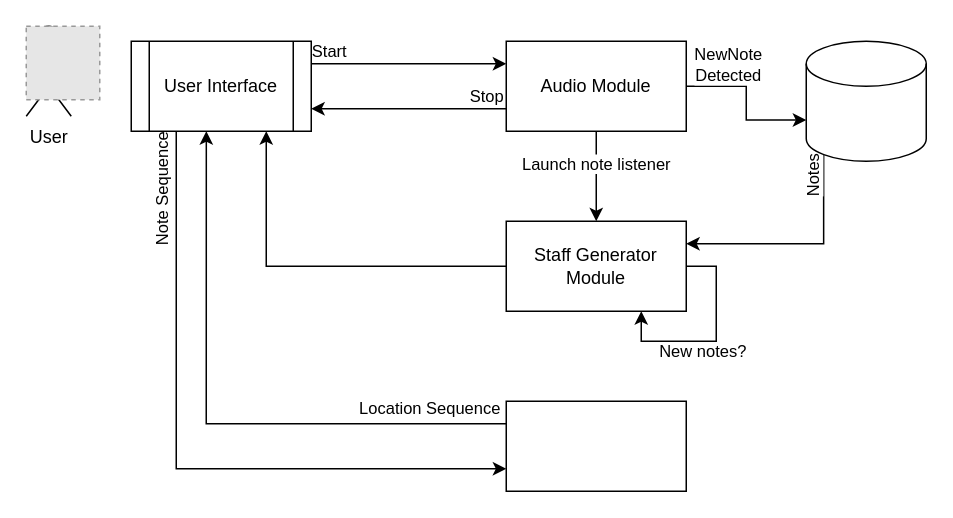
The diagram is 953 pixels wide and 518 high, and some of its shapes have lost their labels. Grey dashed boxes stand in for pictures. Each missing label, with the centre of its shape:
ML Model Module: pixel 595 445
System Storage: pixel 865 100
